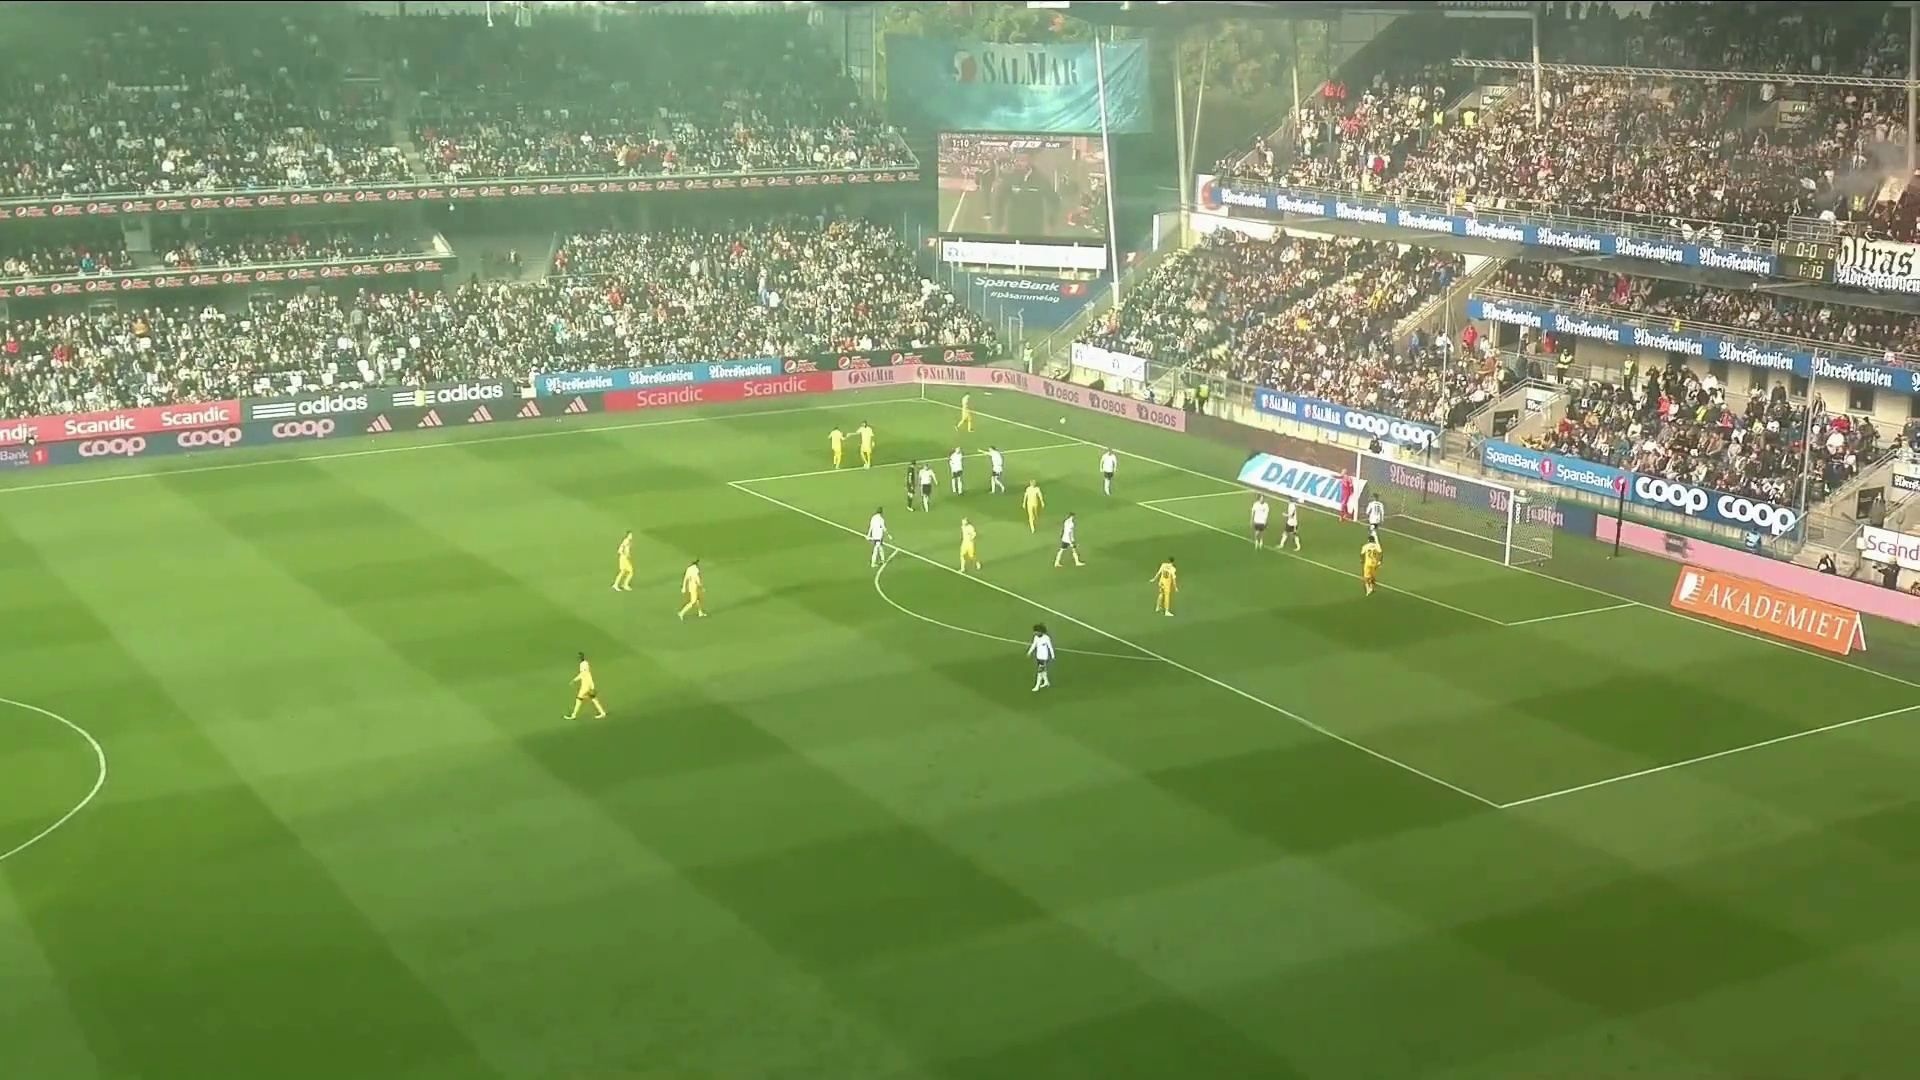ball: (1057, 414, 1067, 425)
player: (563, 651, 608, 719), (1026, 622, 1056, 691), (677, 557, 708, 622), (1053, 511, 1086, 568), (1150, 555, 1179, 617), (611, 530, 636, 592), (976, 445, 1006, 494), (867, 506, 890, 567), (1022, 478, 1046, 534), (1360, 535, 1382, 596), (959, 516, 982, 572), (1277, 501, 1302, 551), (1250, 493, 1270, 551), (853, 419, 875, 470), (1366, 491, 1385, 543), (918, 463, 938, 512), (1338, 469, 1355, 523), (1099, 446, 1117, 496), (828, 425, 847, 469), (948, 446, 965, 495), (904, 460, 919, 512), (956, 392, 974, 432)
